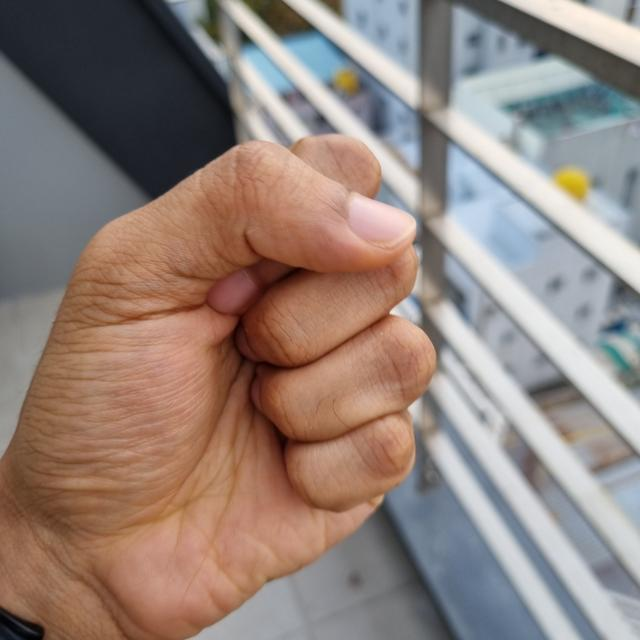Rock: (0, 135, 433, 638)
